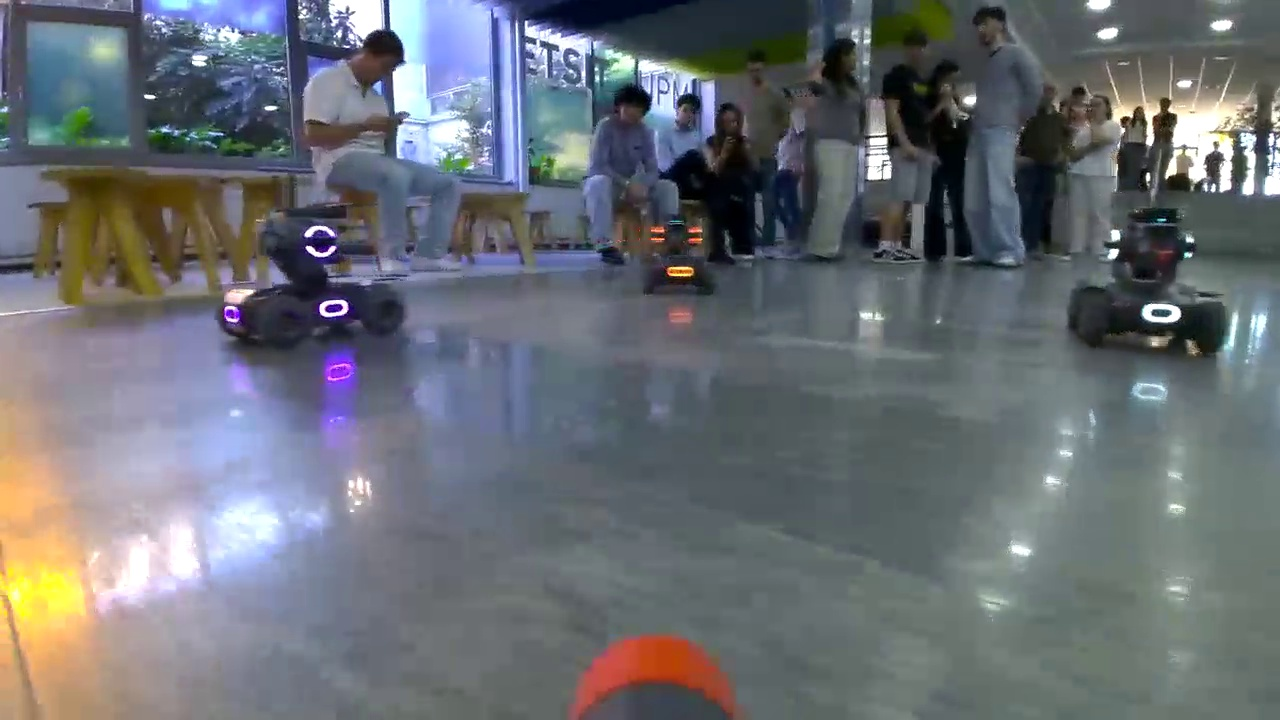robot: (215, 210, 408, 342), (1065, 205, 1225, 355), (640, 242, 702, 296)
